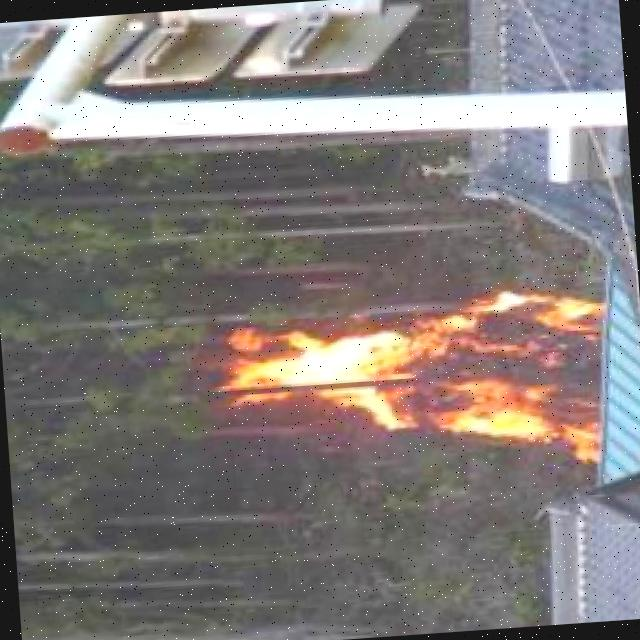fire: (181, 270, 615, 493)
